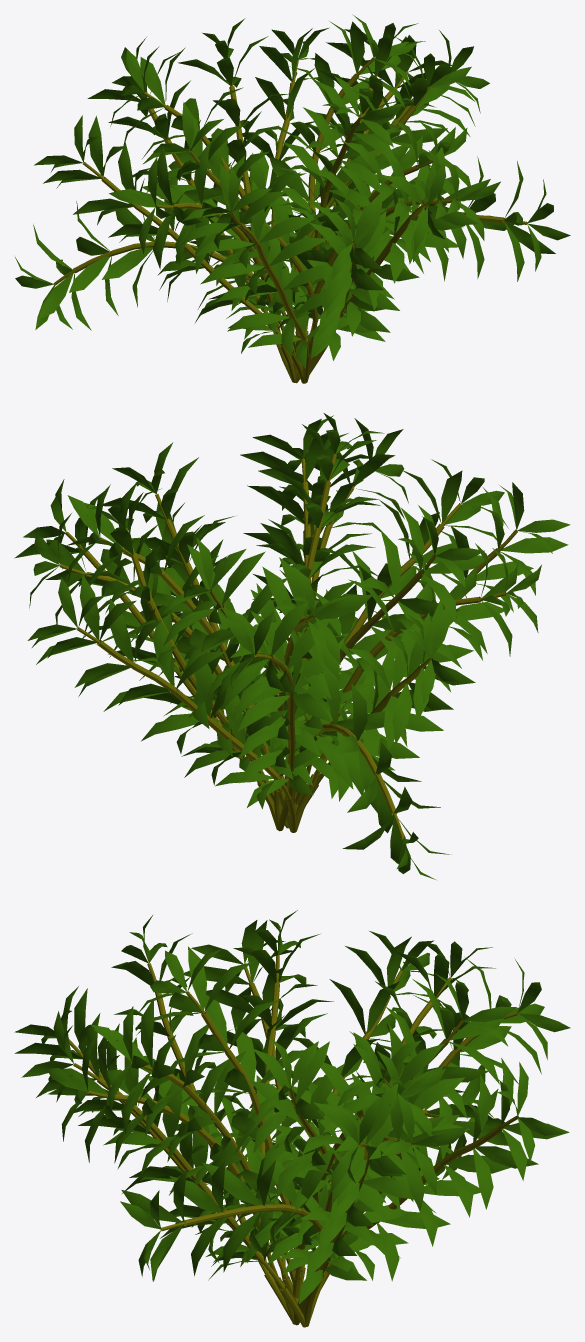
The model's file is Magnesium_Plant.fbx.
3 views of the same model, one above another, from view 1: azimuth 30°, elevation 25°; view 2: azimuth 150°, elevation 25°; view 3: azimuth 270°, elevation 25° (orthographic). The views are drawn at different scales.
Parts seen in each view (by area): view 1: Magnesium_Plant-COM-Obj_000003-886526-Color_F16, Magnesium_Plant-COM-Obj_000004-886527-Color_E16; view 2: Magnesium_Plant-COM-Obj_000003-886526-Color_F16, Magnesium_Plant-COM-Obj_000004-886527-Color_E16; view 3: Magnesium_Plant-COM-Obj_000003-886526-Color_F16, Magnesium_Plant-COM-Obj_000004-886527-Color_E16.
Part boxes in pixels (x1,y1,x2,y2): Magnesium_Plant-COM-Obj_000003-886526-Color_F16: (15, 14, 570, 368); Magnesium_Plant-COM-Obj_000004-886527-Color_E16: (53, 57, 527, 383); Magnesium_Plant-COM-Obj_000003-886526-Color_F16: (14, 413, 570, 879); Magnesium_Plant-COM-Obj_000004-886527-Color_E16: (59, 453, 517, 839); Magnesium_Plant-COM-Obj_000003-886526-Color_F16: (14, 910, 570, 1304); Magnesium_Plant-COM-Obj_000004-886527-Color_E16: (68, 955, 518, 1327).
Bounding box in the file's own units: 1.57 × 1.17 × 1.58.
